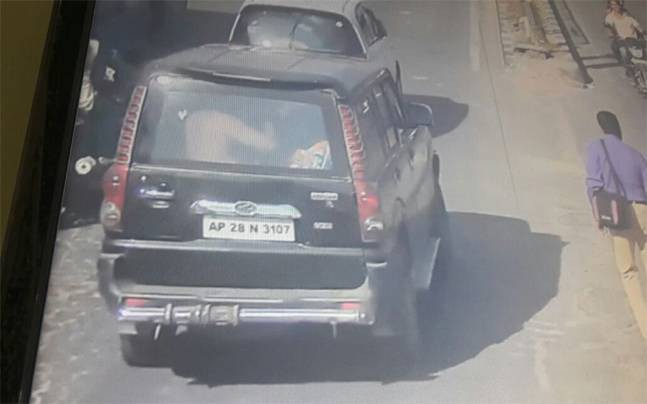numberPlate: (203, 214, 293, 242)
